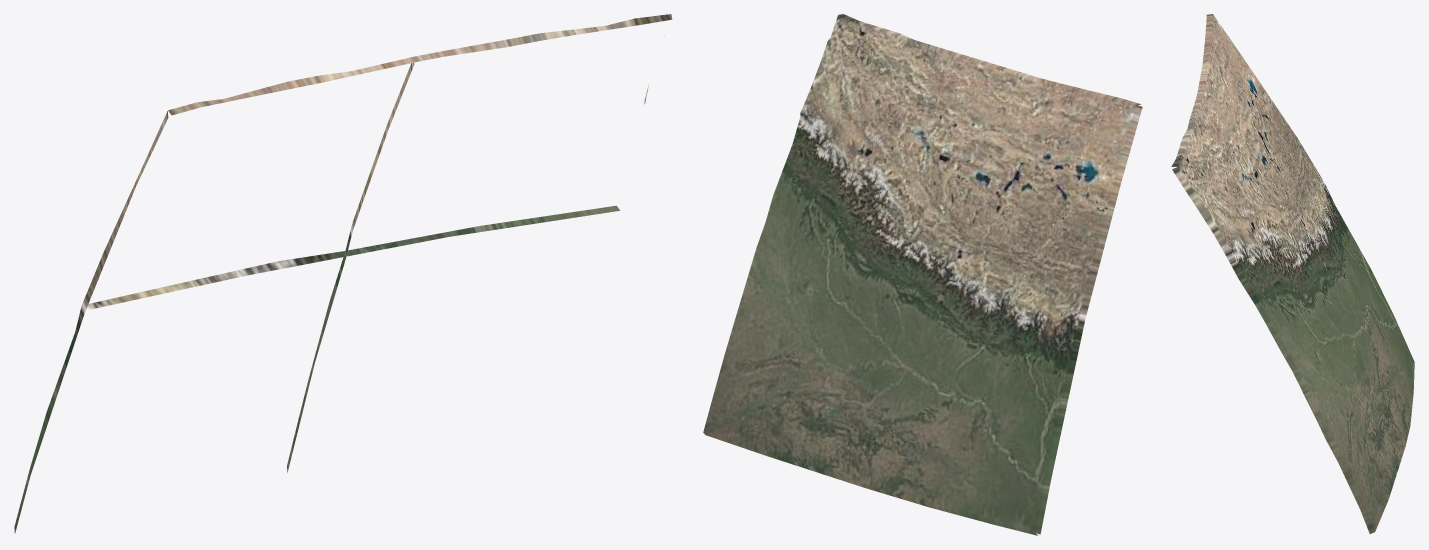
The picture shows the model from 3 angles, left to right: view 1: azimuth 30°, elevation 25°; view 2: azimuth 150°, elevation 25°; view 3: azimuth 270°, elevation 25°; orthographic projection. The views are drawn at different scales.
Size of the model in its own units: 1163819 by 1122092 by 700836.
Materials: 1 (1 with a texture image).
